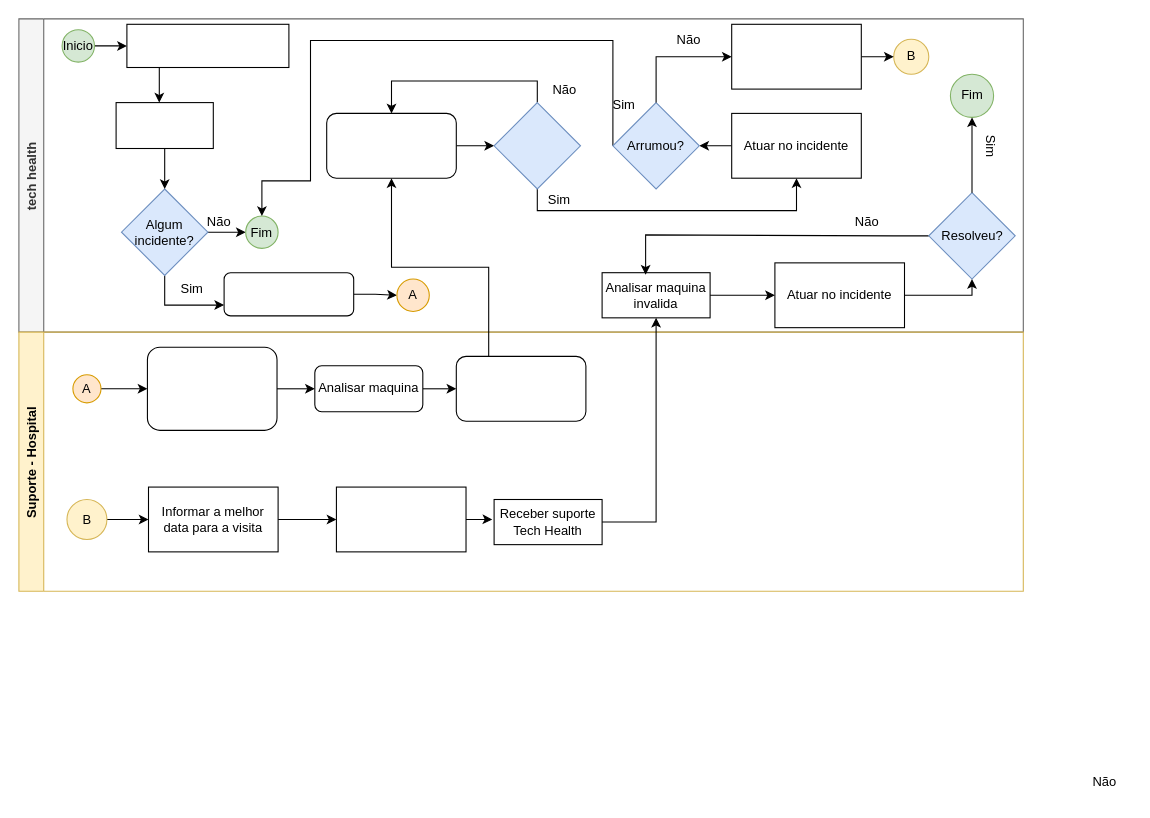
The diagram is 1150 pixels wide and 818 high, and some of its shapes have lost their labels. The shapes that lost their labels are listed below. From the top down, each one's centre as x and y in pixels, then its label:
At point 207,45: "Monitorar máquina remotamente atraves API Tech Health".
At point 796,56: "Marcar visita com suporte".
At point 164,125: "Apresentar dados em Dashboard".
At point 391,145: "Verificar maquina remotamente".
At point 536,145: "Achou erro?".
At point 288,294: "Informar suporte de TI do hospital".
At point 211,388: "Maquina na triagem com risco de colapso".
At point 520,388: "Abrir caminho para suporte remoto da Tech Health".
At point 400,519: "Comunicar a recepção do hospital".
